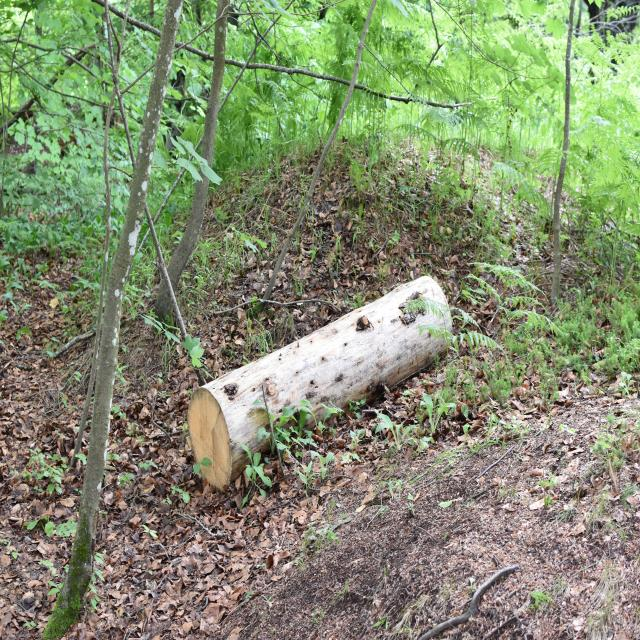restos de madeira: (179, 265, 457, 487)
